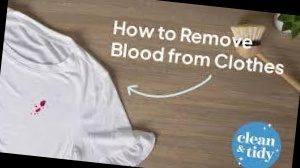blood: (27, 97, 47, 117)
